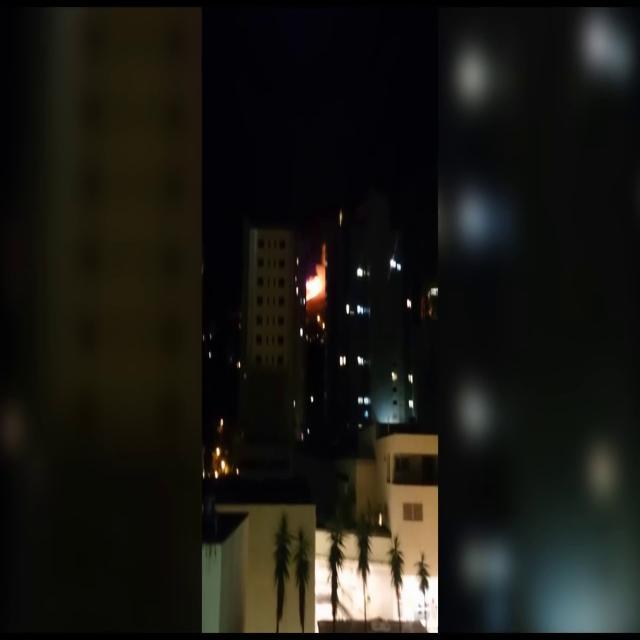Fire: (302, 269, 326, 304)
